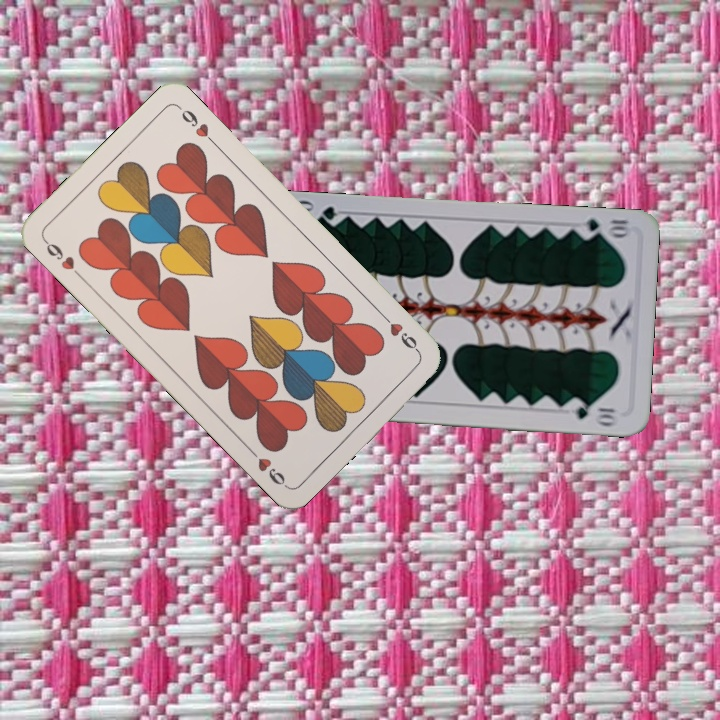G10: (574, 215, 633, 242)
H9: (39, 235, 85, 282), (377, 310, 423, 356)
